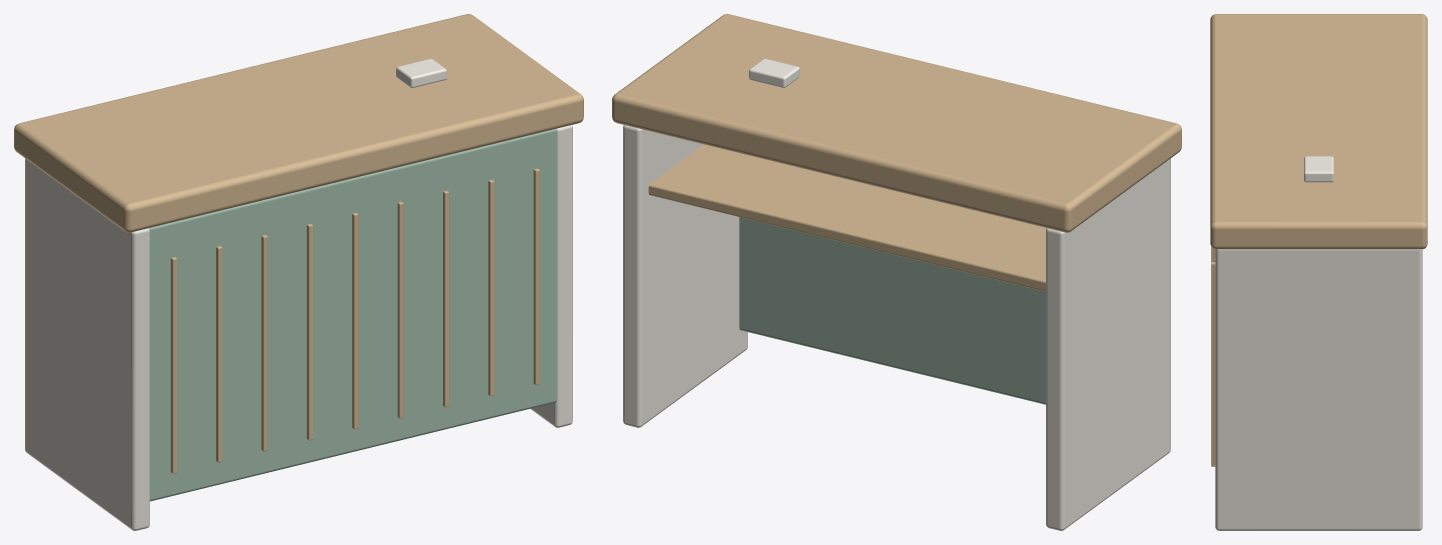
The model's file is hearing-aid-and-audiology-clinic-appointment-reception-95ca2b14.glb.
The picture shows the model from 3 angles, left to right: view 1: azimuth 30°, elevation 25°; view 2: azimuth 150°, elevation 25°; view 3: azimuth 270°, elevation 25°; orthographic projection. The views are drawn at different scales.
Parts seen in each view (by area): view 1: appointment-reception-counter; view 2: appointment-reception-counter; view 3: appointment-reception-counter.
Boxes of the visible parts, bbox=[...] form: appointment-reception-counter: bbox=[14, 14, 583, 530]; appointment-reception-counter: bbox=[612, 14, 1181, 530]; appointment-reception-counter: bbox=[1210, 14, 1427, 530].
Size of the model in its own units: 1.5 by 1.07 by 0.6499.
